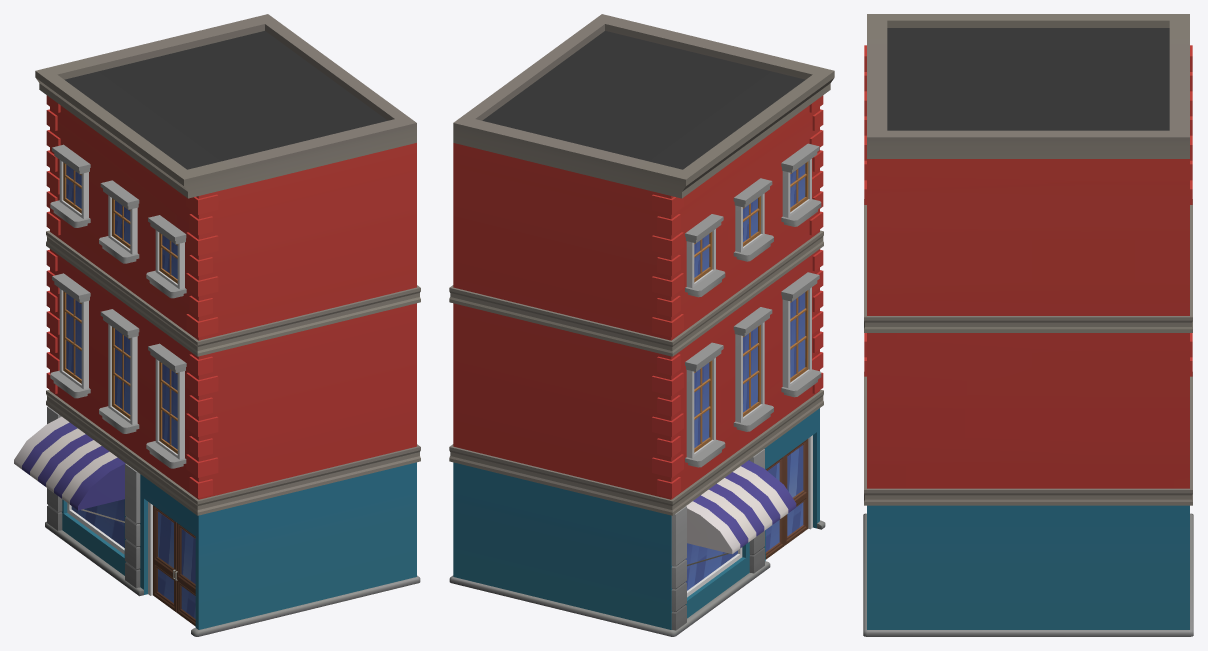
Rendered from Building_8_1_M.fbx.
The picture shows the model from 3 angles, left to right: view 1: azimuth 30°, elevation 25°; view 2: azimuth 150°, elevation 25°; view 3: azimuth 270°, elevation 25°; orthographic projection. The views are drawn at different scales.
Parts seen in each view (by area): view 1: Building 8_1_M; view 2: Building 8_1_M; view 3: Building 8_1_M.
Part boxes in pixels (left/top/right/bottom): Building 8_1_M: left=14, top=14, right=420, bottom=636; Building 8_1_M: left=449, top=14, right=834, bottom=636; Building 8_1_M: left=863, top=14, right=1193, bottom=636.
Size of the model in its own units: 681 by 1108 by 667.
